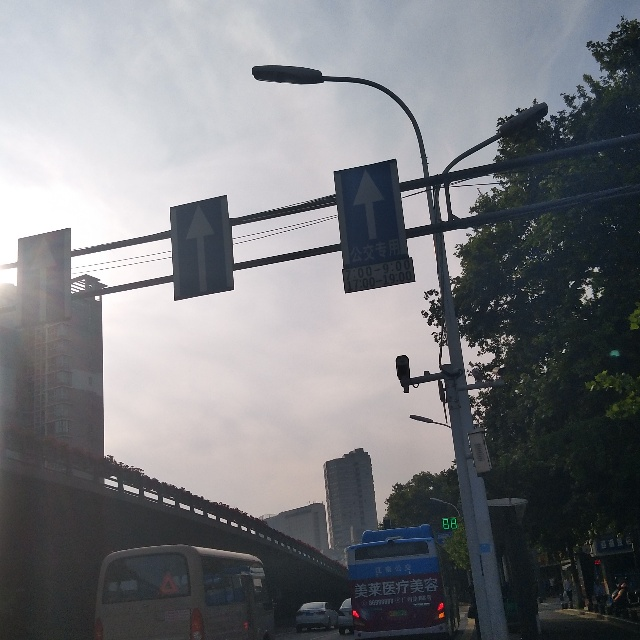straight: (163, 194, 246, 305), (15, 227, 77, 336)
